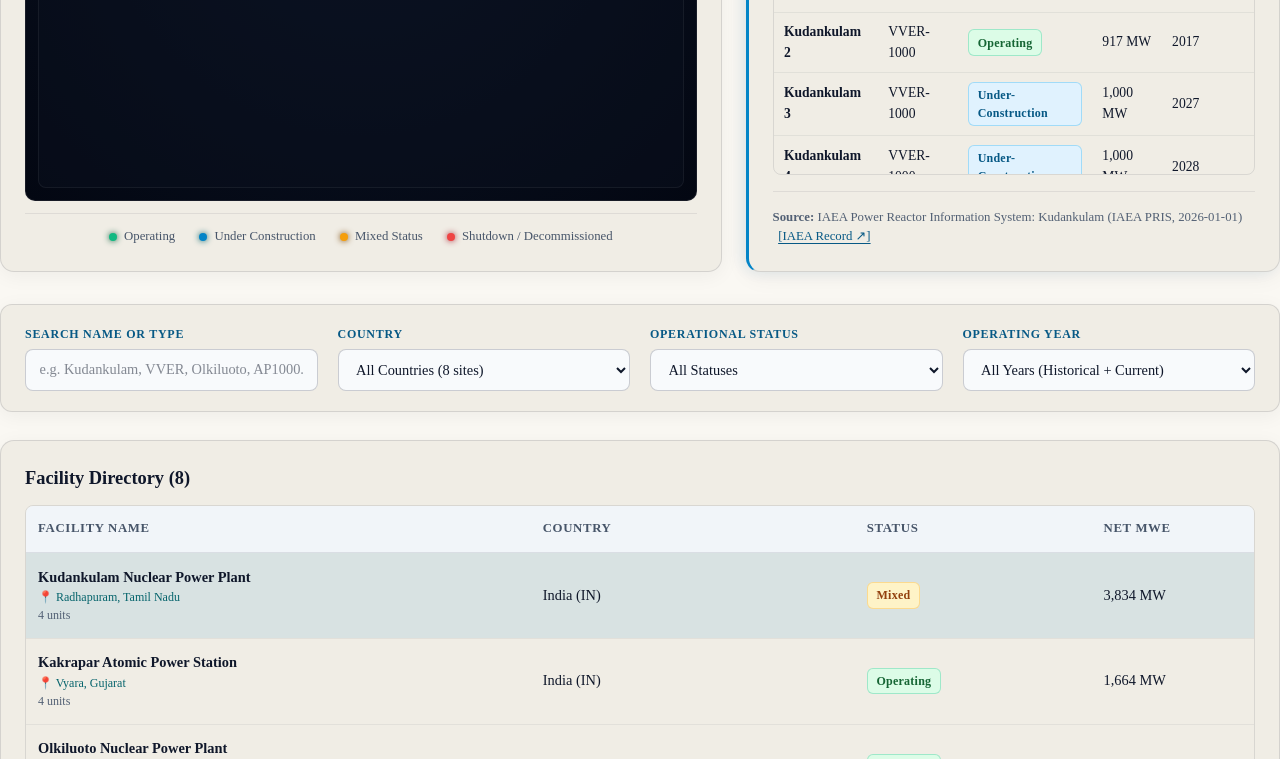
Scenario: GlobeViewer Component (R16-G) › shows an honest empty state when filter matches zero facilities
(page scrolled)
Type "non-existent-search-xyz" into the field labelled "Search Name or Type".
click(171, 370); type("non-existent-search-xyz")  # box [25, 349, 318, 391]
(page scrolled)
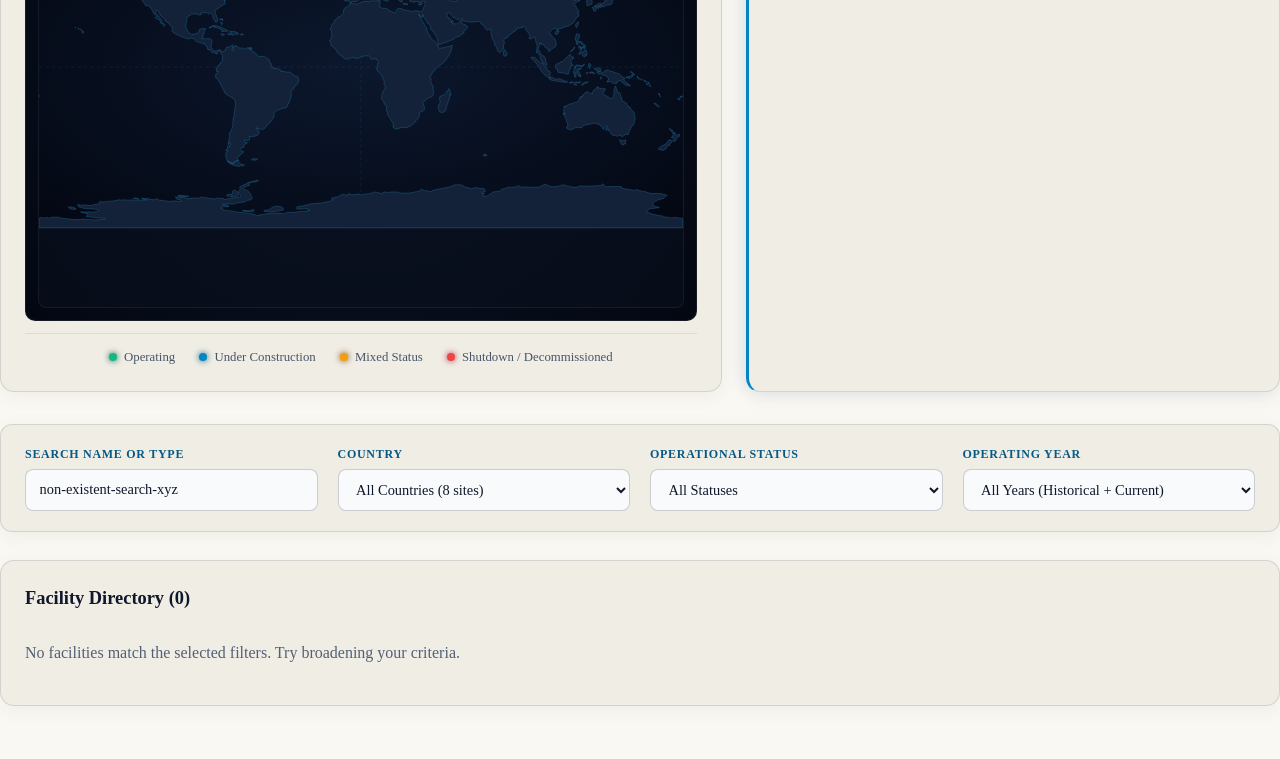
Expected: the text "No facilities match the selected filters" is shown, [25, 644, 460, 661]
